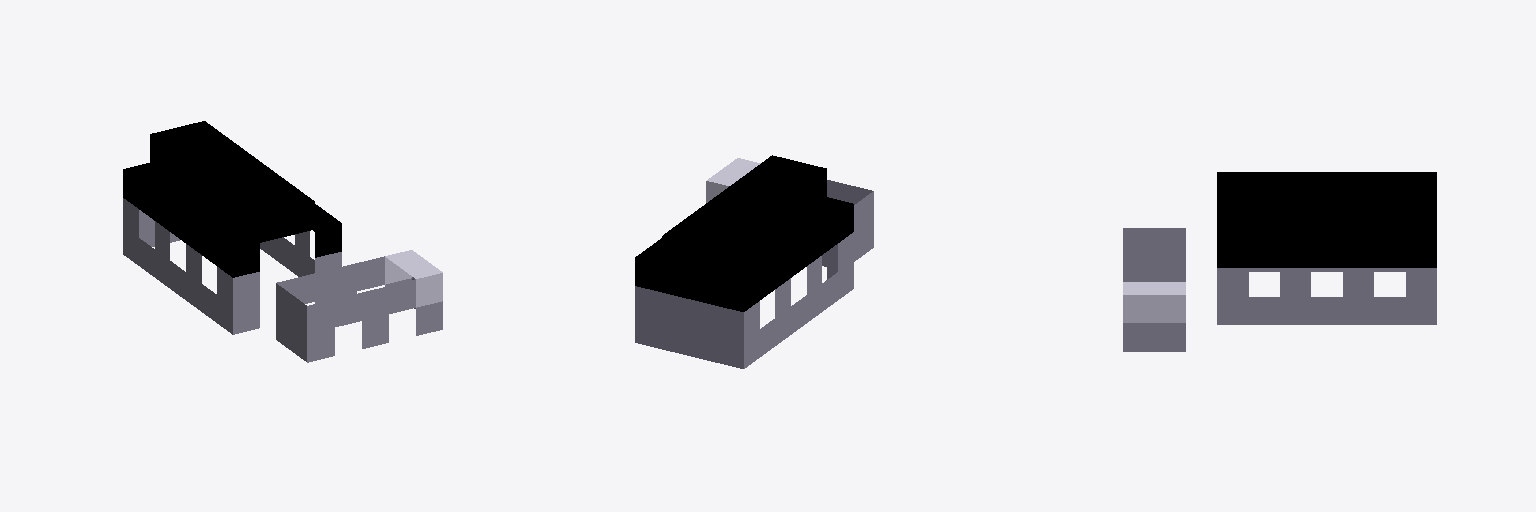
The picture shows the model from 3 angles: view 1: azimuth 30°, elevation 25°; view 2: azimuth 150°, elevation 25°; view 3: azimuth 270°, elevation 25°; orthographic projection.
Visible parts, largest first — view 1: HC_Firestation; view 2: HC_Firestation; view 3: HC_Firestation.
Boxes of the visible parts, <box> form: HC_Firestation: <box>123,121,442,362</box>; HC_Firestation: <box>635,155,873,368</box>; HC_Firestation: <box>1123,172,1436,351</box>.
Bounding box in the file's own units: 10 × 5 × 10.
1 materials, 1 textured.